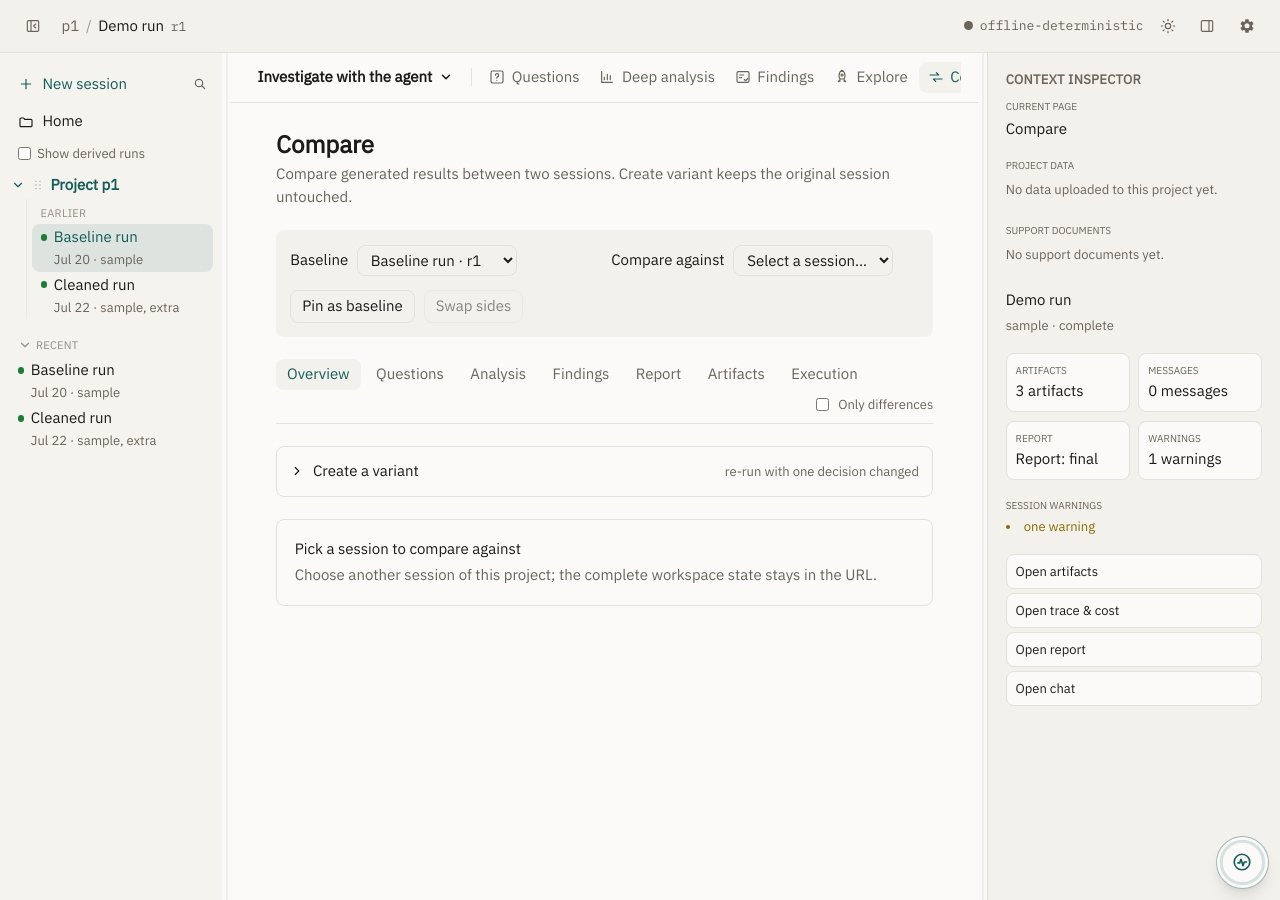
Test: Compare page › switching the right-hand run refetches against the new pair
This screenshot has width=1280, height=900.
Expected: the heading "Compare" is shown, [276,128,374,160]
Select "Cleaned run · r2" in the dropdown labelled "Compare against" at (813, 260), box [733,245,893,276]
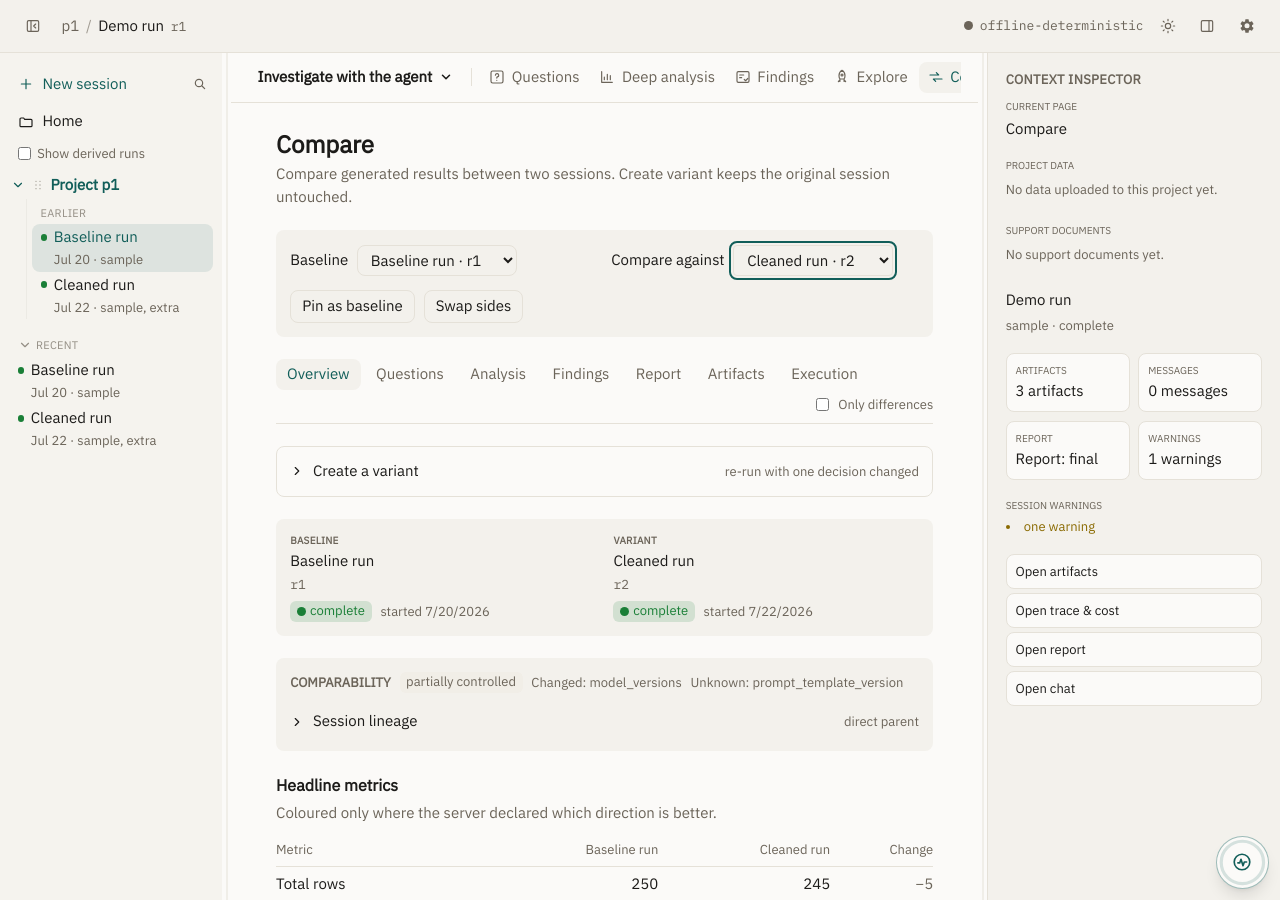
Result: the heading "Headline metrics" is shown at [276,775,398,795]
